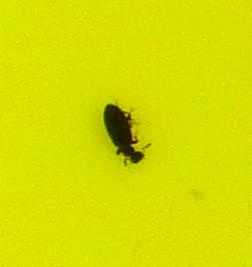Coleoptera: (100, 100, 152, 167)
